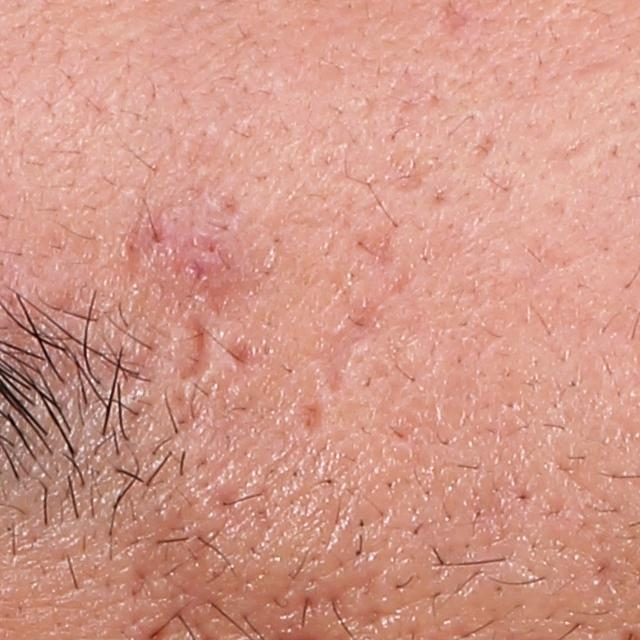atrophic_scar: (300, 298, 385, 398), (161, 313, 214, 377), (341, 223, 398, 266), (437, 2, 473, 39), (299, 404, 324, 438), (472, 130, 497, 162)
